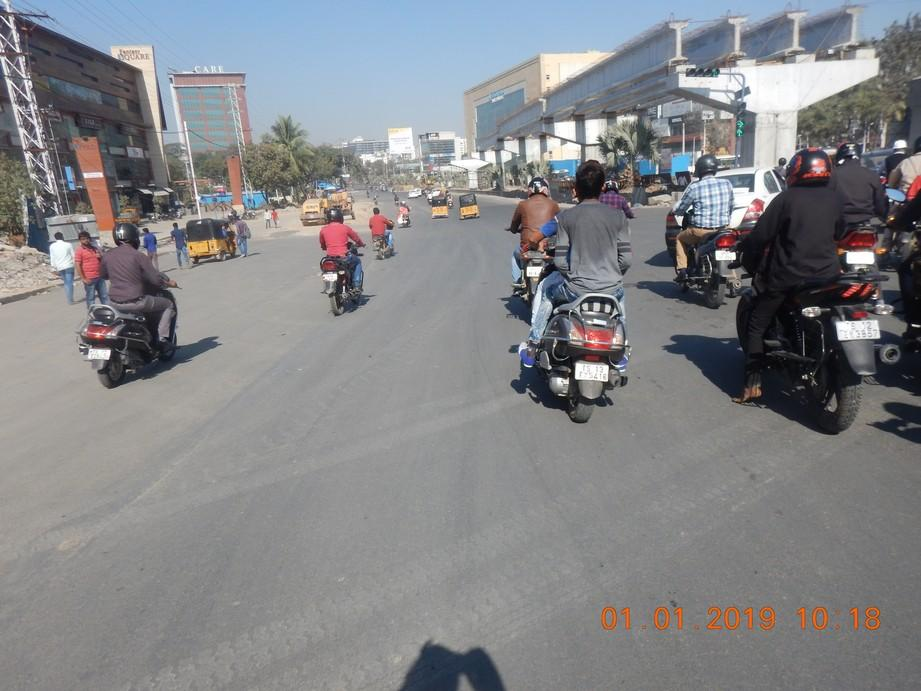plate: (837, 319, 881, 341), (573, 362, 608, 381), (85, 347, 110, 360)
